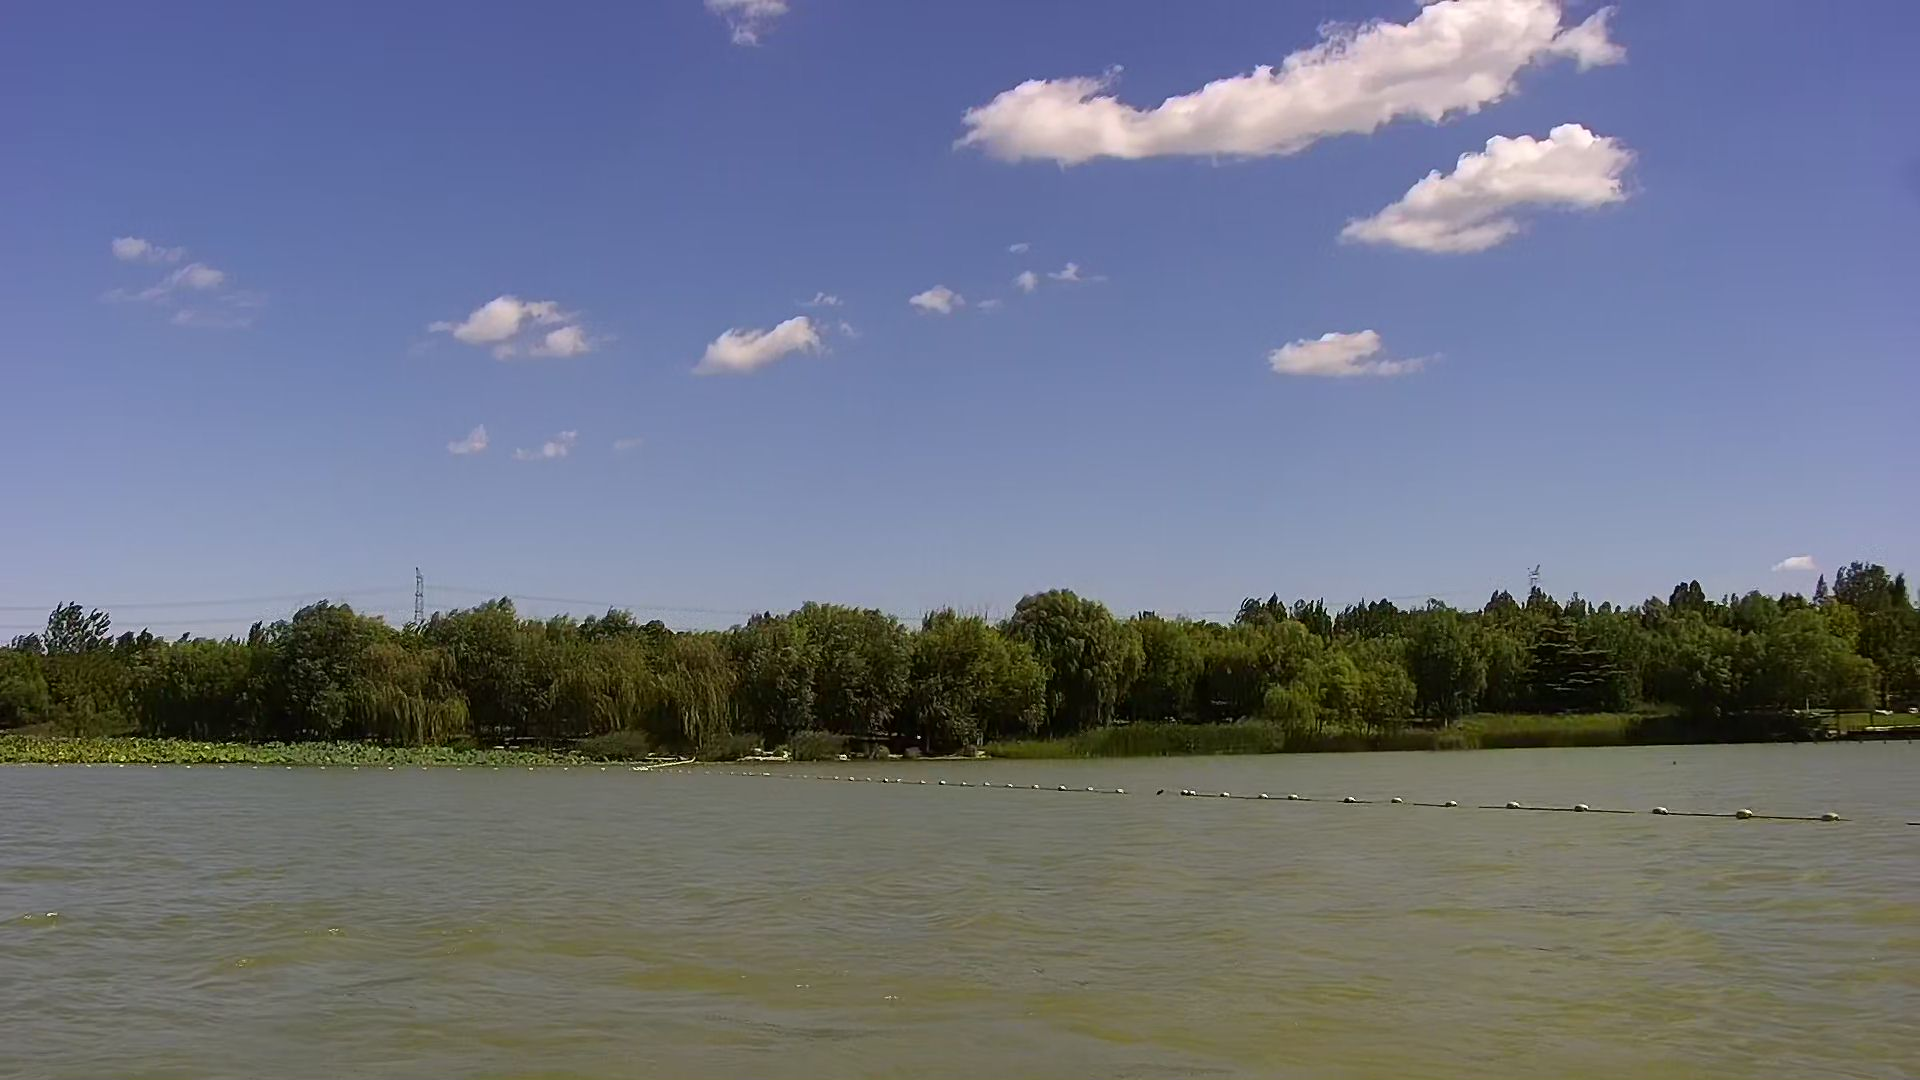ball: (1724, 794, 1768, 829), (1647, 793, 1683, 832), (1433, 782, 1466, 822), (1497, 789, 1531, 825), (1815, 802, 1851, 833), (1571, 793, 1596, 825)
